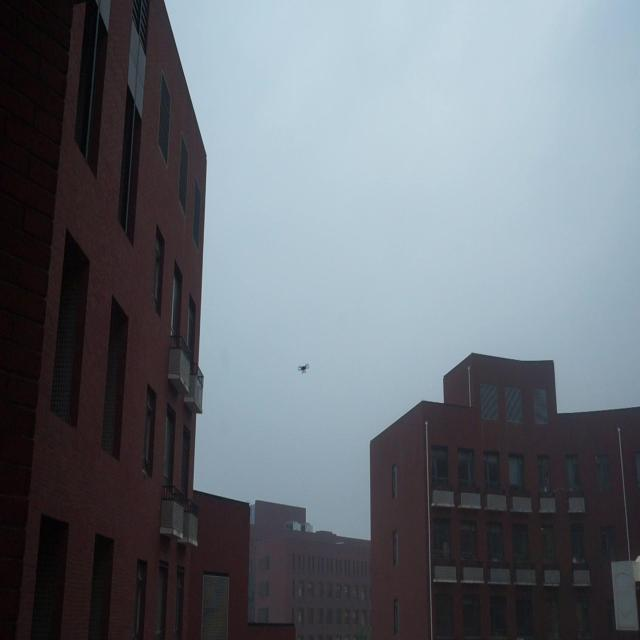drone: (295, 359, 311, 378)
